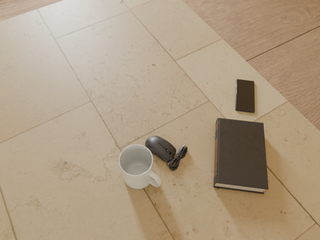book: (214, 118, 268, 194)
cup: (119, 145, 162, 189)
mouse: (145, 136, 187, 170)
phone: (236, 79, 255, 113)
